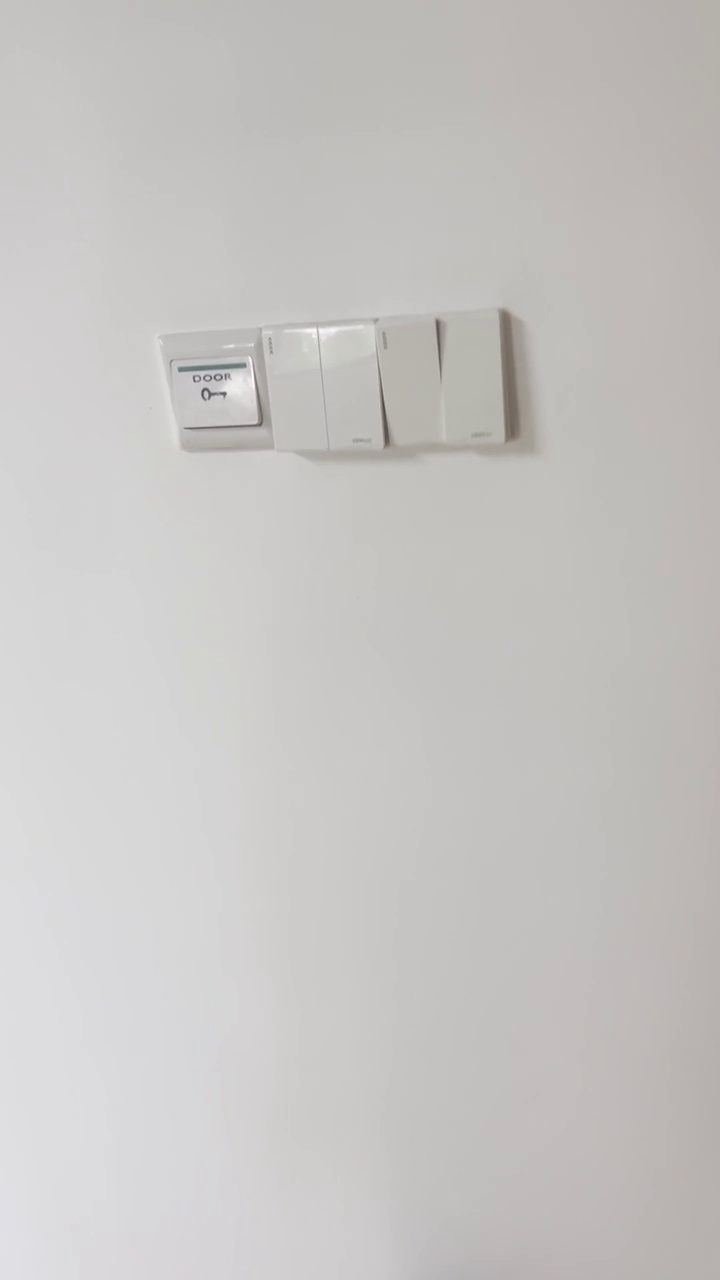button: (372, 305, 522, 459), (256, 321, 396, 456)
